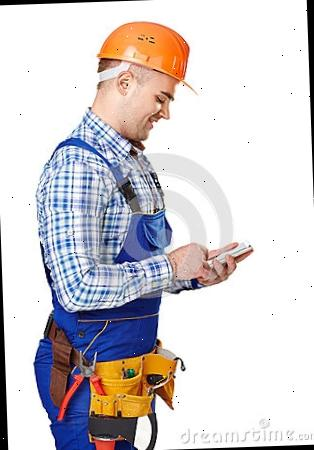helmet: (94, 18, 198, 101)
no_wear: (32, 141, 172, 325)
